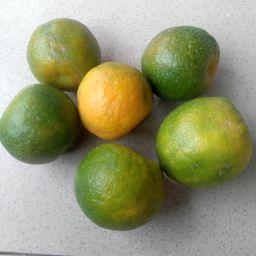orange: (155, 96, 252, 190), (74, 143, 167, 231), (1, 83, 80, 165), (76, 61, 154, 142), (141, 25, 221, 102), (26, 17, 102, 91)
